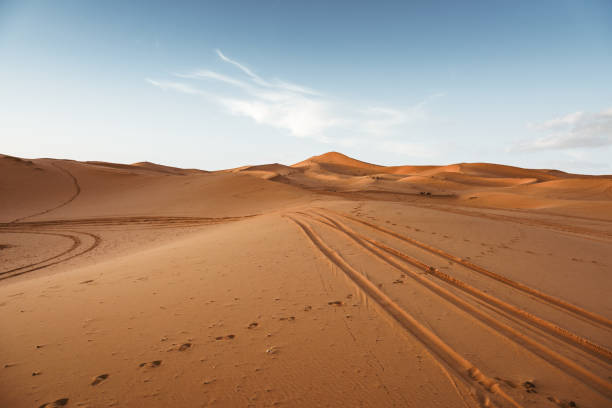human_footprint: (130, 358, 169, 374), (213, 327, 238, 346), (320, 294, 344, 312), (39, 395, 71, 408), (92, 369, 111, 389), (276, 314, 300, 326), (246, 317, 262, 333), (178, 339, 190, 355)
